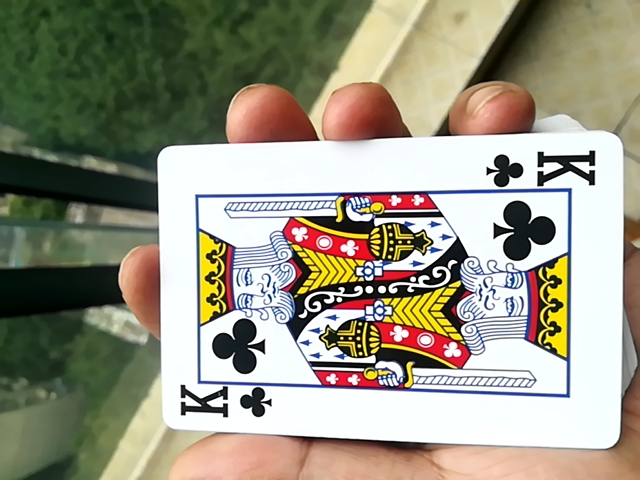mh k: (142, 134, 614, 456)
